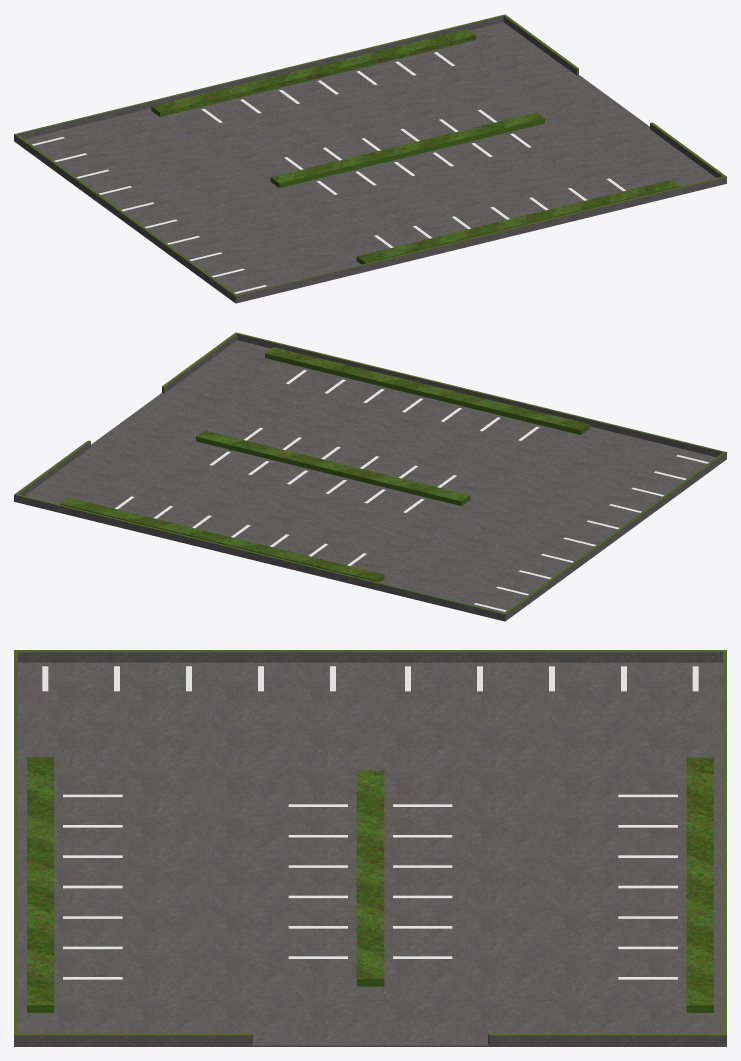
Rendered from Parking.obj.
3 renders of one model, top to bottom at view 1: azimuth 30°, elevation 25°; view 2: azimuth 150°, elevation 25°; view 3: azimuth 270°, elevation 25°, orthographic. The views are drawn at different scales.
Visible parts, largest first — view 1: Parking; view 2: Parking; view 3: Parking.
Boxes of the visible parts, x1,y1,x2,y2 form: Parking: [14, 14, 726, 303]; Parking: [14, 332, 726, 621]; Parking: [14, 650, 726, 1046].
Size of the model in its own units: 210 by 2.92 by 165.
3 materials, 3 textured.
